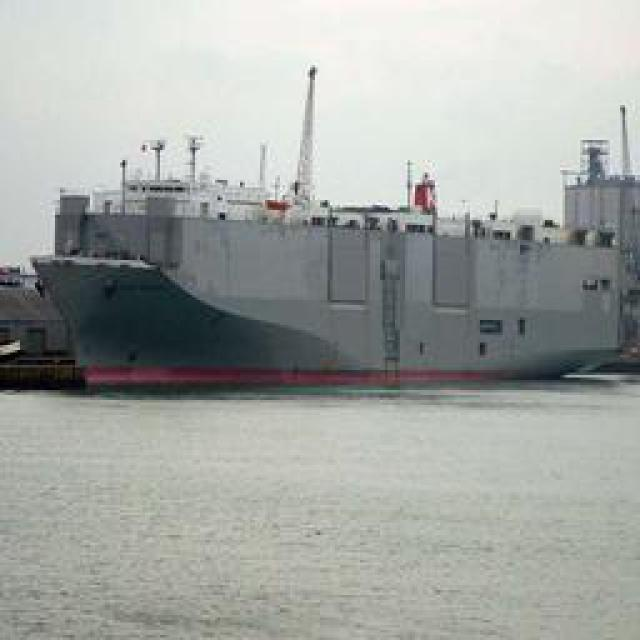Ship: (36, 116, 629, 386)
